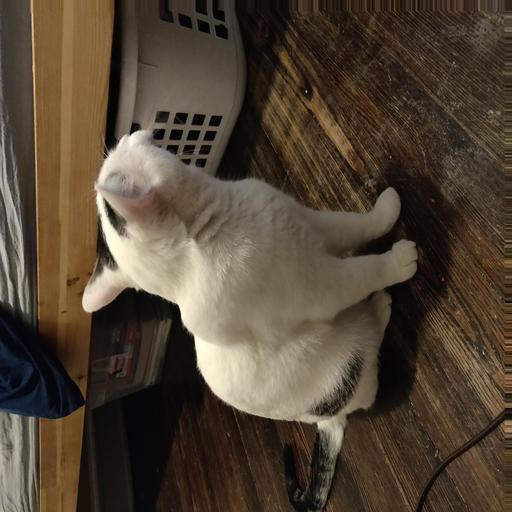cat: (79, 132, 367, 420)
